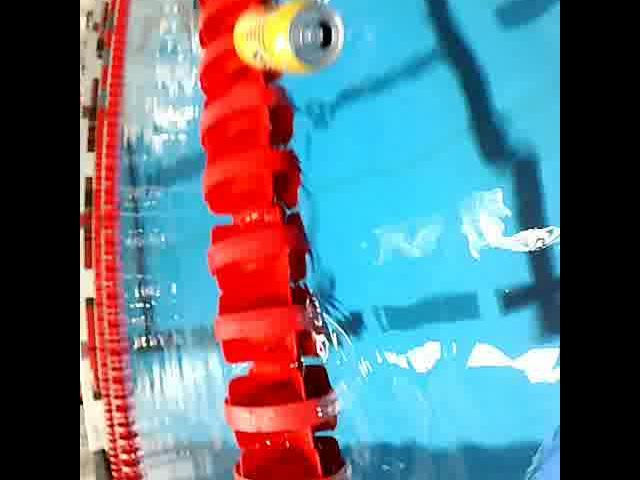Bottle: (484, 401, 560, 480)
Can: (227, 0, 351, 76)
